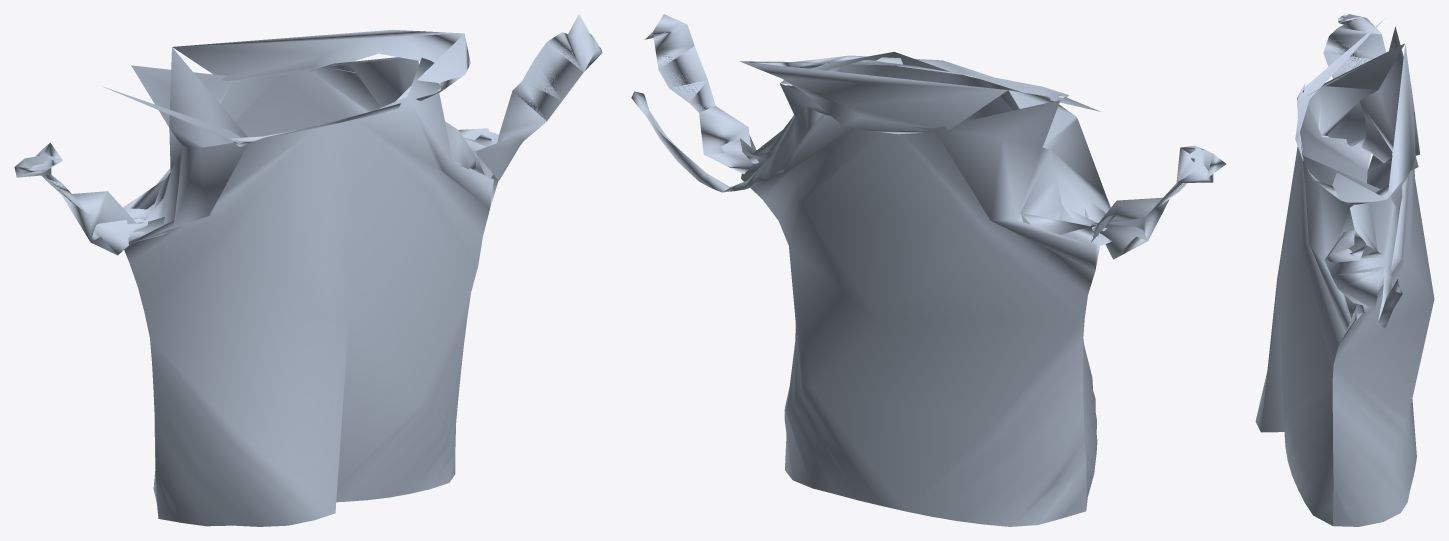
Rendered from frame_032.glb.
3 renders of one model, left to right at view 1: azimuth 30°, elevation 25°; view 2: azimuth 150°, elevation 25°; view 3: azimuth 270°, elevation 25°, orthographic. The views are drawn at different scales.
Parts seen in each view (by area): view 1: panel.front, panel.back, panel.neck_band, panel.sleeve.right, panel.sleeve.left; view 2: panel.back, panel.neck_band, panel.front, panel.sleeve.right, panel.sleeve.left; view 3: panel.front, panel.back, panel.neck_band, panel.sleeve.right, panel.sleeve.left.
Boxes of the visible parts, x1,y1,x2,y2 form: panel.front: (124,47,493,526); panel.back: (123,58,498,515); panel.neck_band: (103,29,523,146); panel.sleeve.right: (476,14,602,180); panel.sleeve.left: (14,142,135,255); panel.back: (740,85,1098,526); panel.neck_band: (631,55,1100,192); panel.front: (780,51,1111,508); panel.sleeve.right: (644,14,755,174); panel.sleeve.left: (1091,145,1226,259); panel.front: (1255,43,1404,525); panel.back: (1332,26,1434,526); panel.neck_band: (1295,18,1418,328); panel.sleeve.right: (1324,230,1388,318); panel.sleeve.left: (1323,14,1385,78).
Size of the model in its own units: 1.05 by 0.7863 by 0.3323.
